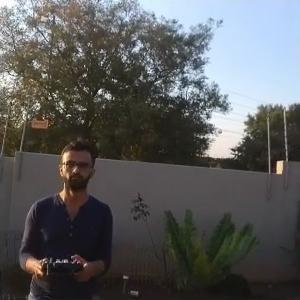follow: (10, 141, 114, 298)
